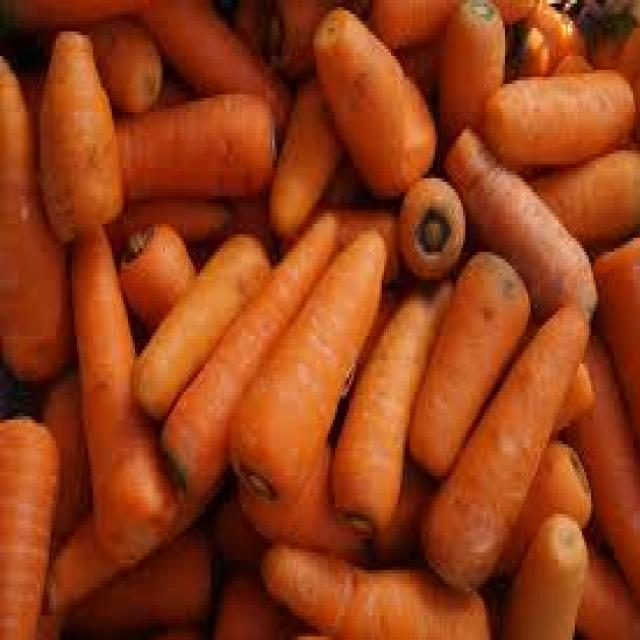Stale_Carrot: (164, 214, 335, 501), (423, 306, 589, 587), (231, 231, 386, 501), (445, 128, 597, 317), (335, 282, 449, 527), (410, 252, 529, 476), (134, 240, 270, 420), (314, 9, 435, 196), (40, 32, 123, 241), (116, 94, 275, 199)
